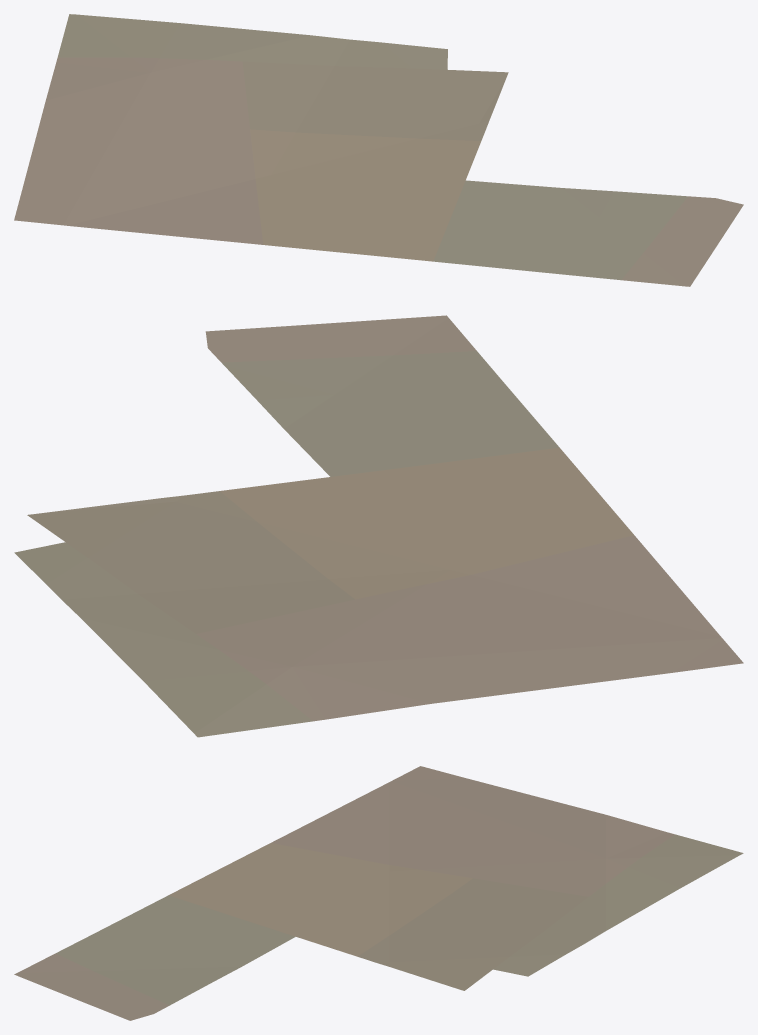
Rendered from farm_25_11_soil.glb.
3 renders of one model, top to bottom at view 1: azimuth 30°, elevation 25°; view 2: azimuth 150°, elevation 25°; view 3: azimuth 270°, elevation 25°, orthographic. The views are drawn at different scales.
Parts seen in each view (by area): view 1: geometry_0; view 2: geometry_0; view 3: geometry_0.
Part boxes in pixels (left/top/right/bottom): geometry_0: left=14, top=14, right=743, bottom=286; geometry_0: left=14, top=315, right=743, bottom=737; geometry_0: left=14, top=766, right=743, bottom=1020.
Bounding box in the file's own units: 219 × 10.73 × 269.
